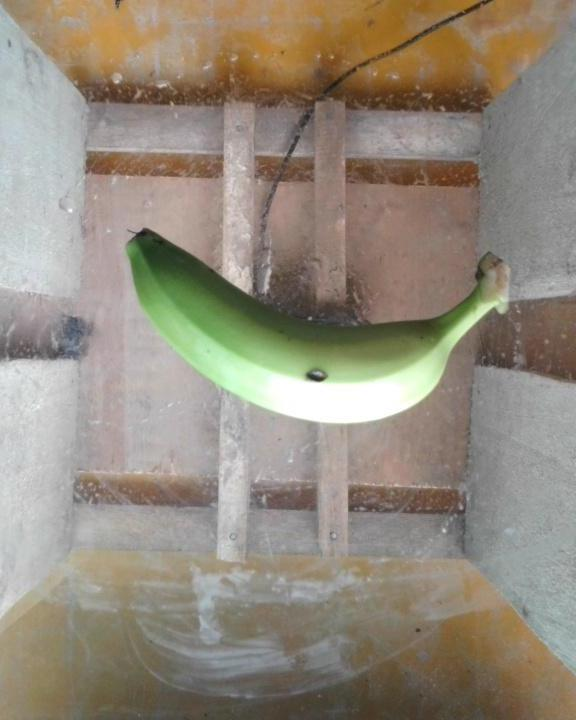CLASS B: (123, 220, 530, 437)
Class A: (300, 359, 338, 389)
